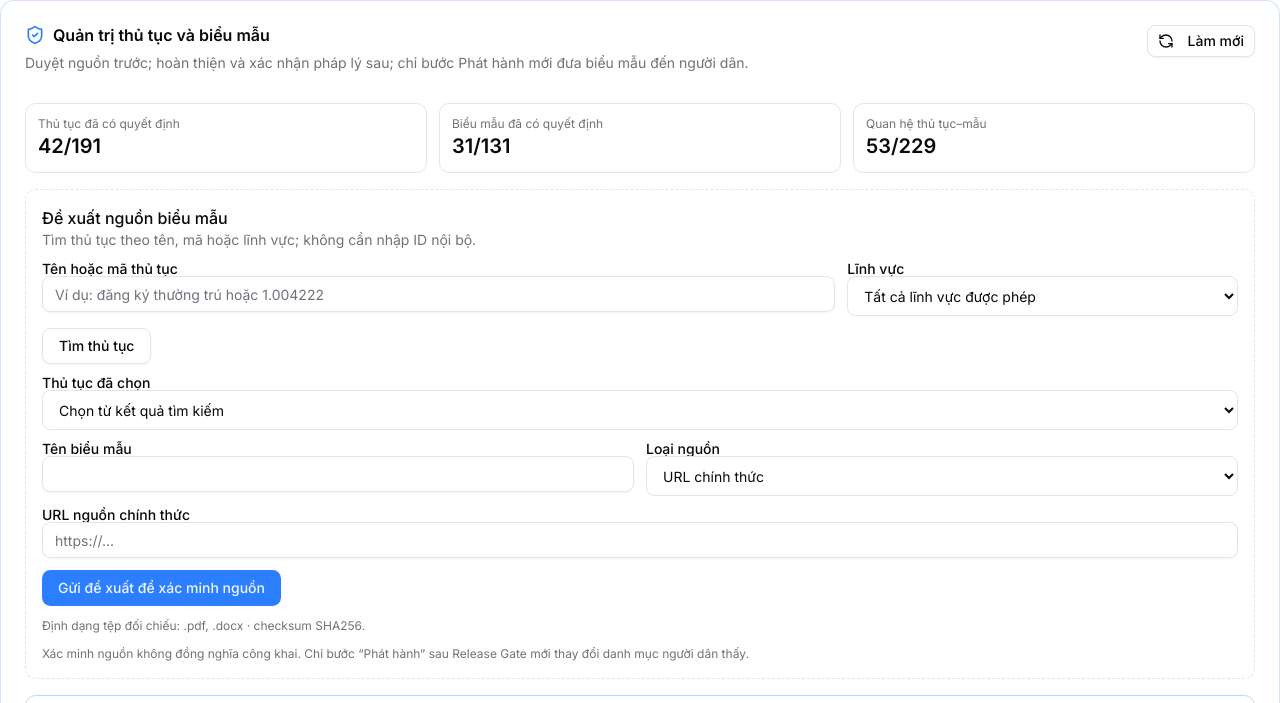
it: FormGovernancePanel › shows validation beside each missing proposal field instead of one generic error
Expected: the text "Đề xuất nguồn biểu mẫu" is shown, x1=42 y1=208 x2=228 y2=228
What coordinates should you click on to do the following:
click the button "Gửi đề xuất để xác minh nguồn"
I would click on:
 (162, 588)
Its box is x1=42 y1=570 x2=281 y2=606.
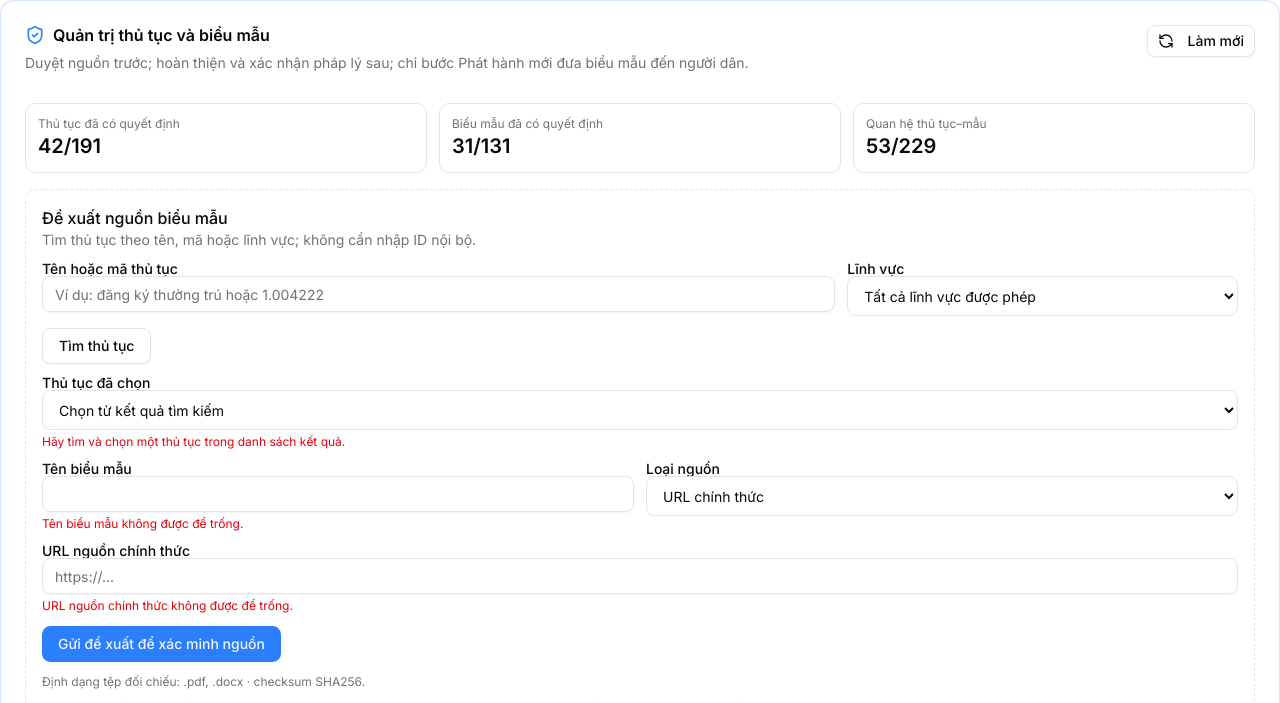
Now the text "Hãy tìm và chọn một thủ tục trong danh sách kết quả." is shown, box x1=42 y1=434 x2=345 y2=449
Now the text "Tên biểu mẫu không được để trống." is shown, box x1=42 y1=516 x2=244 y2=531
Now the text "URL nguồn chính thức không được để trống." is shown, box x1=42 y1=598 x2=293 y2=613
